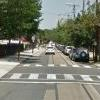Crosswalk: (10, 58, 100, 93)
